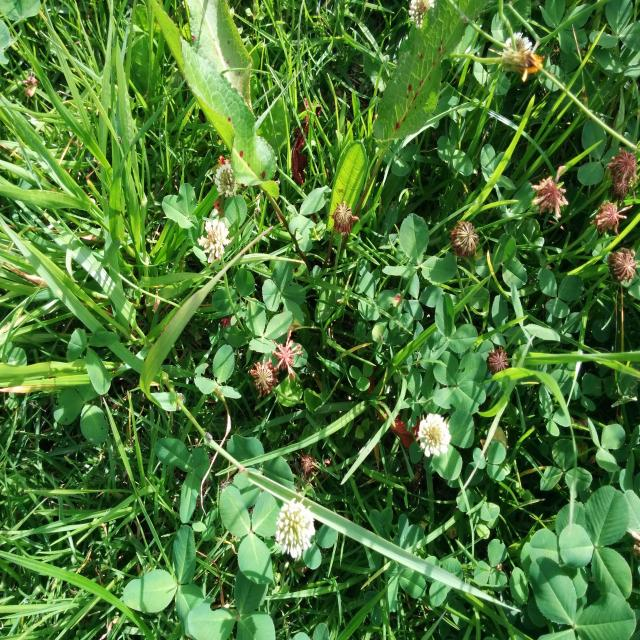Four Leaf Clover: (433, 351, 487, 414), (262, 255, 306, 322)
